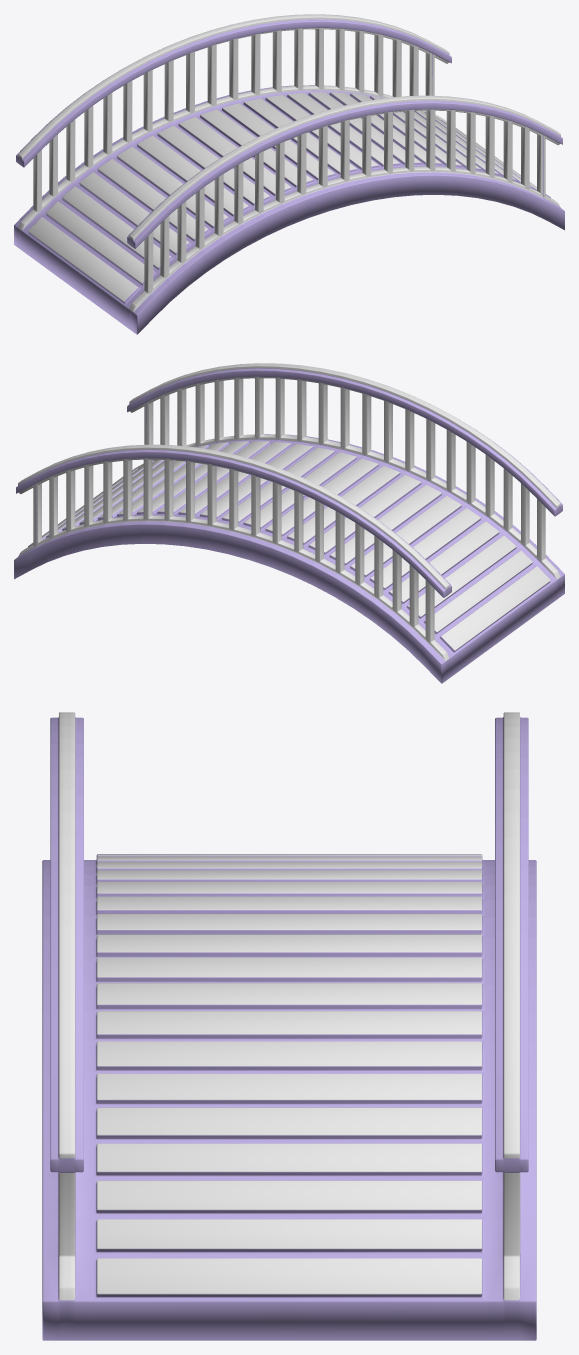
File: bridge1.fbx
3 renders of one model, top to bottom at view 1: azimuth 30°, elevation 25°; view 2: azimuth 150°, elevation 25°; view 3: azimuth 270°, elevation 25°, orthographic. The views are drawn at different scales.
Parts seen in each view (by area): view 1: bridge; view 2: bridge; view 3: bridge.
Boxes of the visible parts, x1=… form: bridge: x1=14, y1=14, x2=564, y2=334; bridge: x1=14, y1=363, x2=564, y2=683; bridge: x1=42, y1=712, x2=536, y2=1340.
Bounding box in the file's own units: 3344 × 1278 × 1672.
